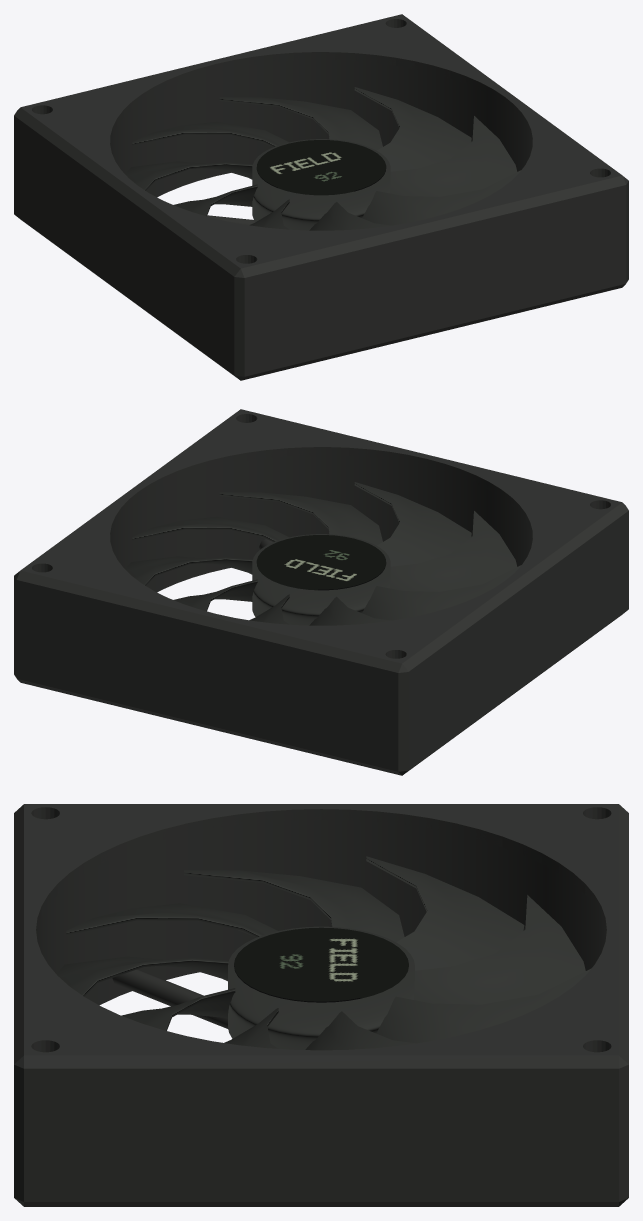
File: PC_CaseFan_LOD0.fbx
3 views of the same model, one above another, from view 1: azimuth 30°, elevation 25°; view 2: azimuth 150°, elevation 25°; view 3: azimuth 270°, elevation 25° (orthographic). The views are drawn at different scales.
Parts seen in each view (by area): view 1: Body_LOD0, Rotor_LOD0; view 2: Body_LOD0, Rotor_LOD0; view 3: Body_LOD0, Rotor_LOD0.
Boxes of the visible parts, bbox=[...] form: Body_LOD0: bbox=[14, 14, 628, 380]; Rotor_LOD0: bbox=[125, 87, 520, 230]; Body_LOD0: bbox=[14, 409, 628, 775]; Rotor_LOD0: bbox=[125, 482, 521, 625]; Body_LOD0: bbox=[14, 804, 628, 1206]; Rotor_LOD0: bbox=[56, 856, 591, 1050].
Size of the model in its own units: 0.092 by 0.025 by 0.092.
